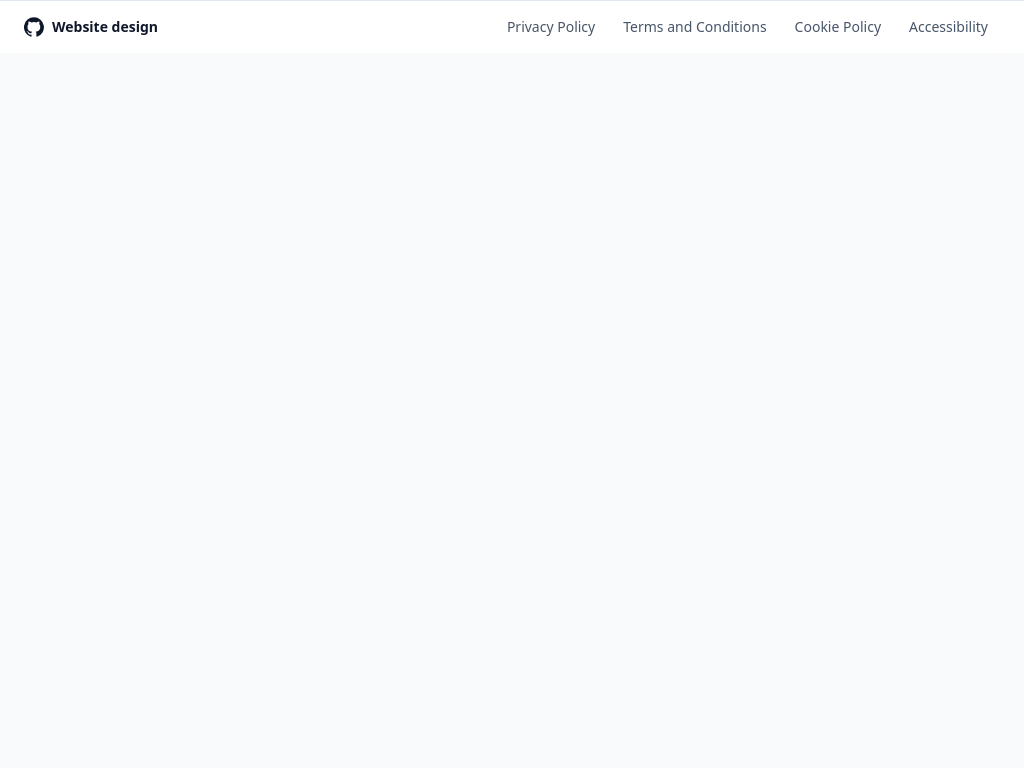
Scenario: SiteFooter › Cookie Policy › opens its modal: a header with its title and a close cross, a scrolling body, and a footer of buttons
Click the button with class "site-footer-link" showing "Cookie Policy" at (838,27), box x1=783 y1=9 x2=893 y2=45
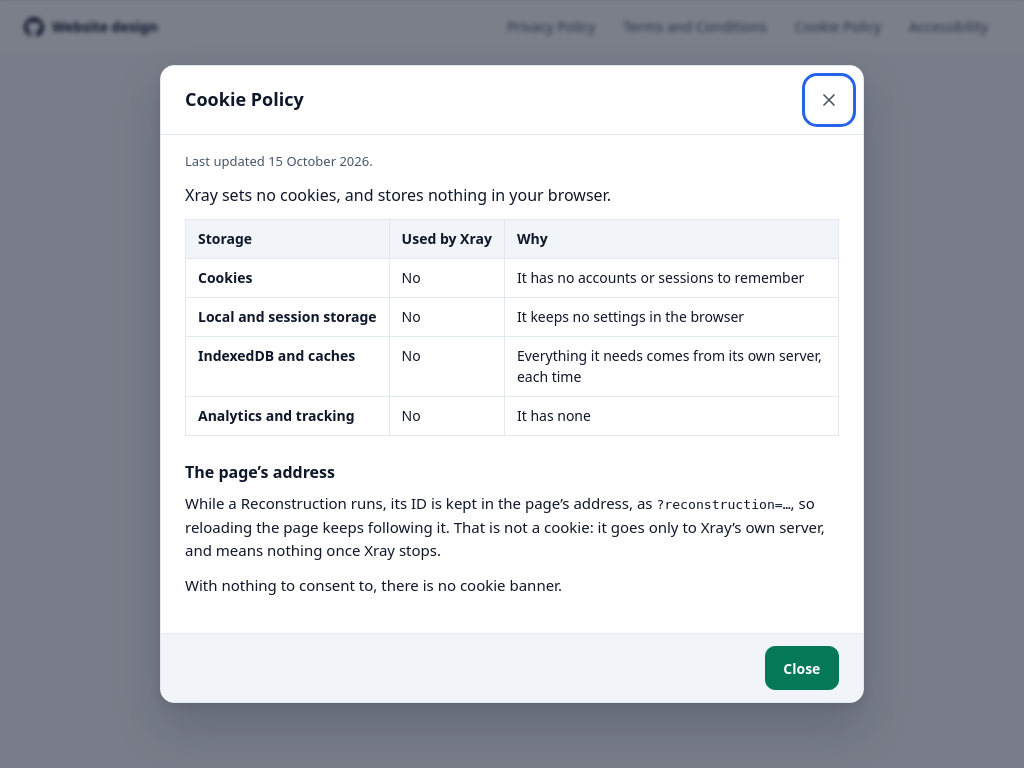
Now the heading "Cookie Policy" is shown, box x1=185 y1=86 x2=304 y2=114
Now the element with class "modal-body" shows "Last updated", box x1=185 y1=152 x2=268 y2=170
